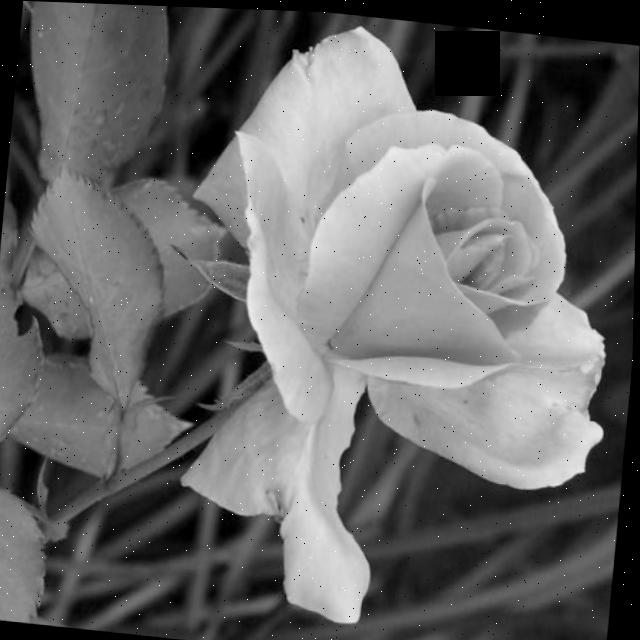rose: (101, 12, 640, 611)
